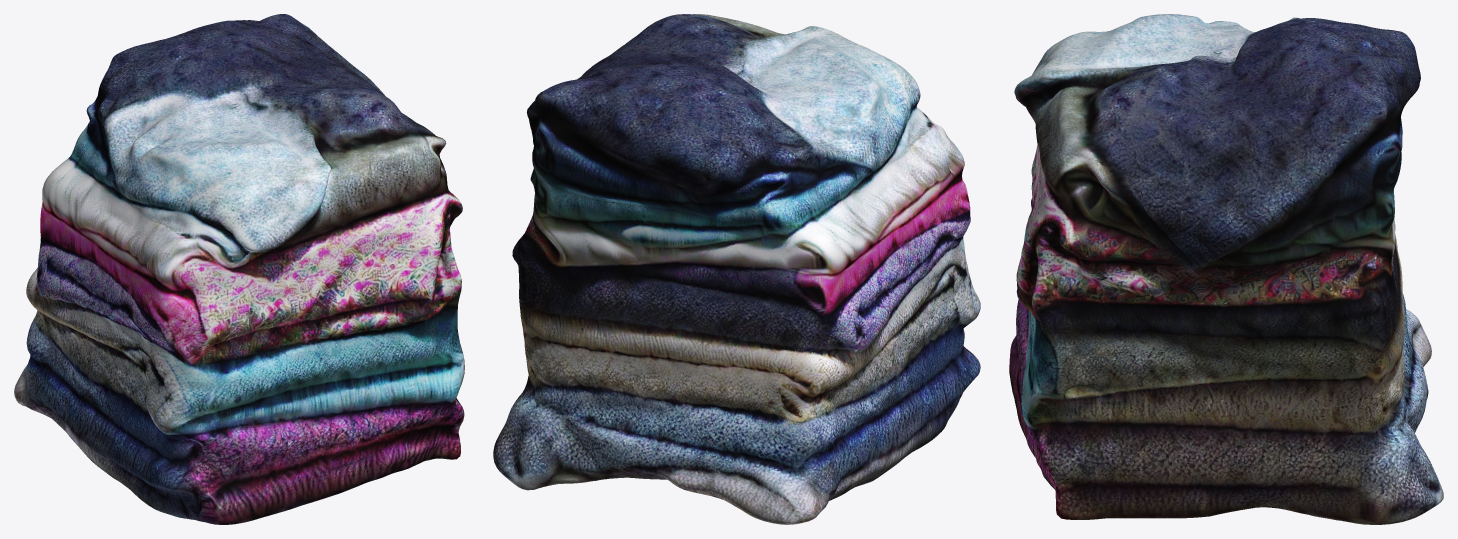
The model's file is pile_of_clothes.glb.
3 renders of one model, left to right at view 1: azimuth 30°, elevation 25°; view 2: azimuth 150°, elevation 25°; view 3: azimuth 270°, elevation 25°, orthographic. The views are drawn at different scales.
Visible parts, largest first — view 1: default_008-material; view 2: default_008-material; view 3: default_008-material.
Boxes of the visible parts, x1,y1,x2,y2 form: default_008-material: (14, 14, 464, 524); default_008-material: (493, 14, 980, 524); default_008-material: (1009, 14, 1443, 524).
Bounding box in the file's own units: 1.23 × 1.3 × 1.23.
1 material, 1 textured.
